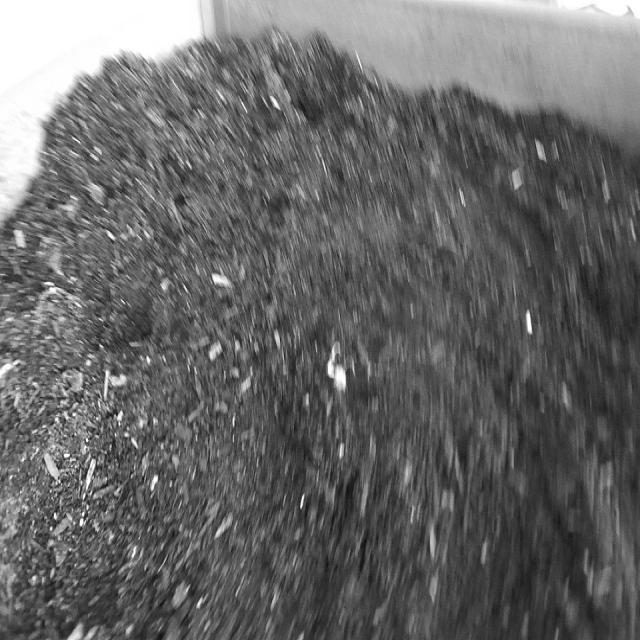Unhealthy: (321, 333, 360, 398)
